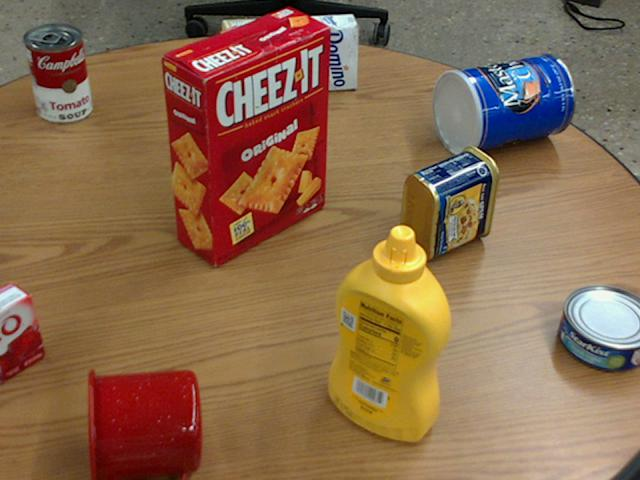cracker_box: (160, 7, 331, 265)
gelatin_box: (0, 281, 42, 380)
master_chef_can: (432, 53, 574, 155)
mug: (85, 368, 199, 479)
mustard_bottle: (328, 224, 449, 441)
potted_meat_can: (401, 144, 499, 259)
sugar_box: (223, 13, 360, 95)
tomato_soup_can: (24, 23, 92, 122)
tuna_fish_can: (558, 284, 639, 369)
